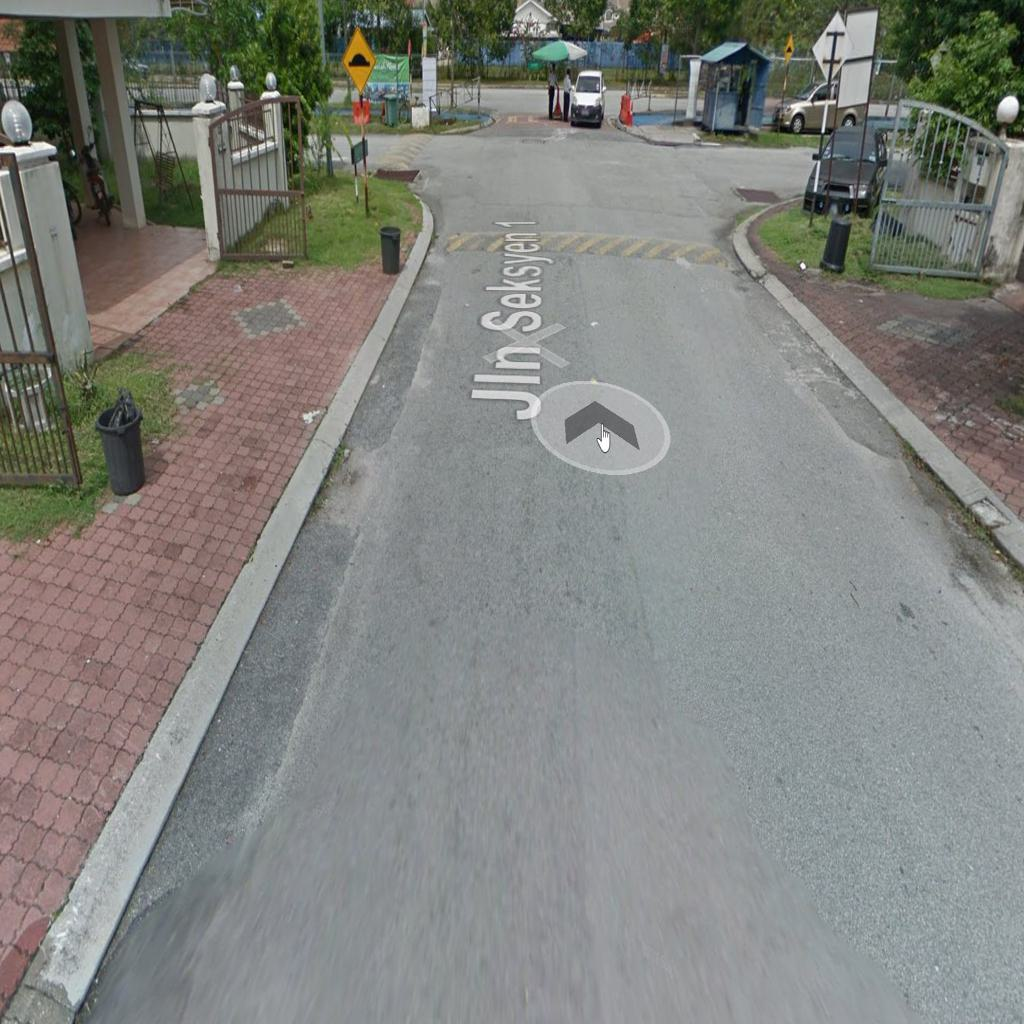Junction: (295, 99, 495, 234), (641, 125, 819, 242)
